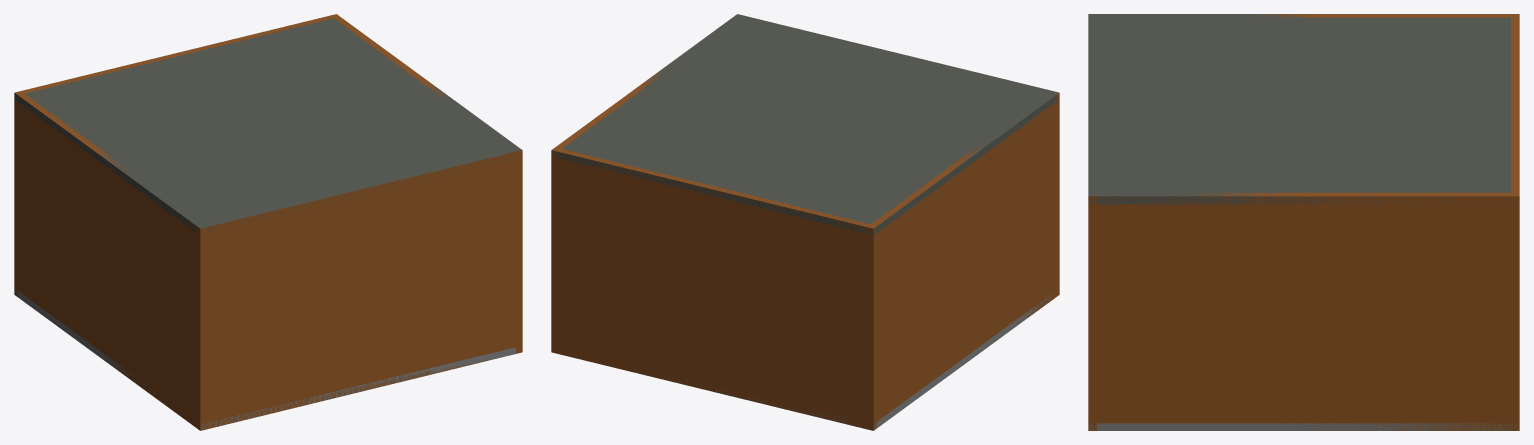
The model's file is Primeira Sala Blender.fbx.
The picture shows the model from 3 angles, left to right: view 1: azimuth 30°, elevation 25°; view 2: azimuth 150°, elevation 25°; view 3: azimuth 270°, elevation 25°; orthographic projection. The views are drawn at different scales.
Visible parts, largest first — view 1: Parede esquerda, Teto, Parede frontal, Teto.001, Parede direita, Parede de traz; view 2: Parede direita, Teto, Parede frontal, Parede de traz, Teto.001; view 3: Parede de traz, Teto, Parede direita, Teto.001, Parede esquerda, Parede frontal.
Boxes of the visible parts, bbox=[...] form: Parede esquerda: bbox=[196, 150, 522, 430]; Teto: bbox=[14, 18, 521, 235]; Parede frontal: bbox=[18, 91, 206, 430]; Teto.001: bbox=[14, 289, 515, 430]; Parede direita: bbox=[14, 14, 339, 297]; Parede de traz: bbox=[332, 14, 522, 353]; Parede direita: bbox=[551, 147, 877, 430]; Teto: bbox=[551, 14, 1059, 234]; Parede frontal: bbox=[867, 93, 1059, 430]; Parede de traz: bbox=[551, 64, 672, 323]; Teto.001: bbox=[635, 293, 1054, 430]; Parede de traz: bbox=[1092, 192, 1519, 430]; Teto: bbox=[1088, 14, 1518, 204]; Parede direita: bbox=[1511, 14, 1519, 430]; Teto.001: bbox=[1088, 423, 1517, 430]; Parede esquerda: bbox=[1088, 196, 1096, 430]; Parede frontal: bbox=[1248, 14, 1519, 17].
Bounding box in the file's own units: 500 × 300 × 500.
